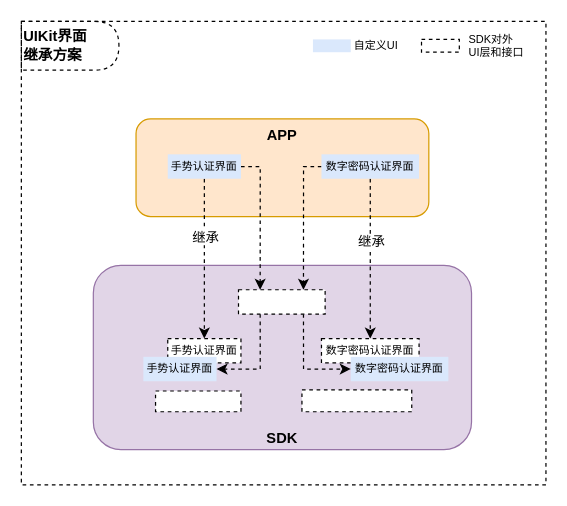
The diagram is 567 pixels wide and 506 high, and some of its shapes have lost their labels. The centre of each missing label's shape, as x and y in pixels:
人脸认证界面: the point at 197,401
其他界面: the point at 356,400
界面注册接口: the point at 281,301
